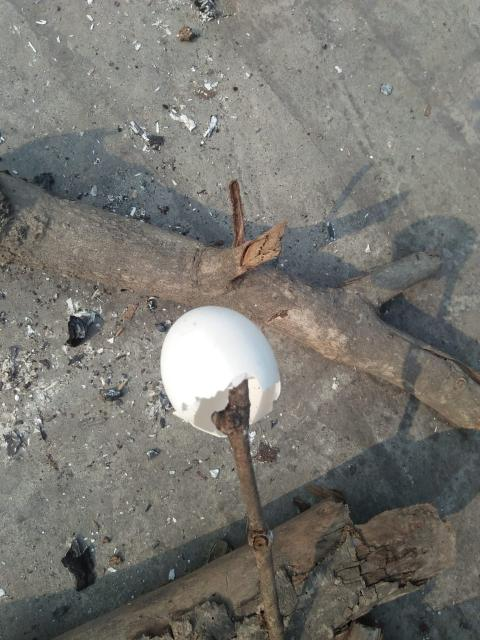Roto: (159, 304, 282, 438)
